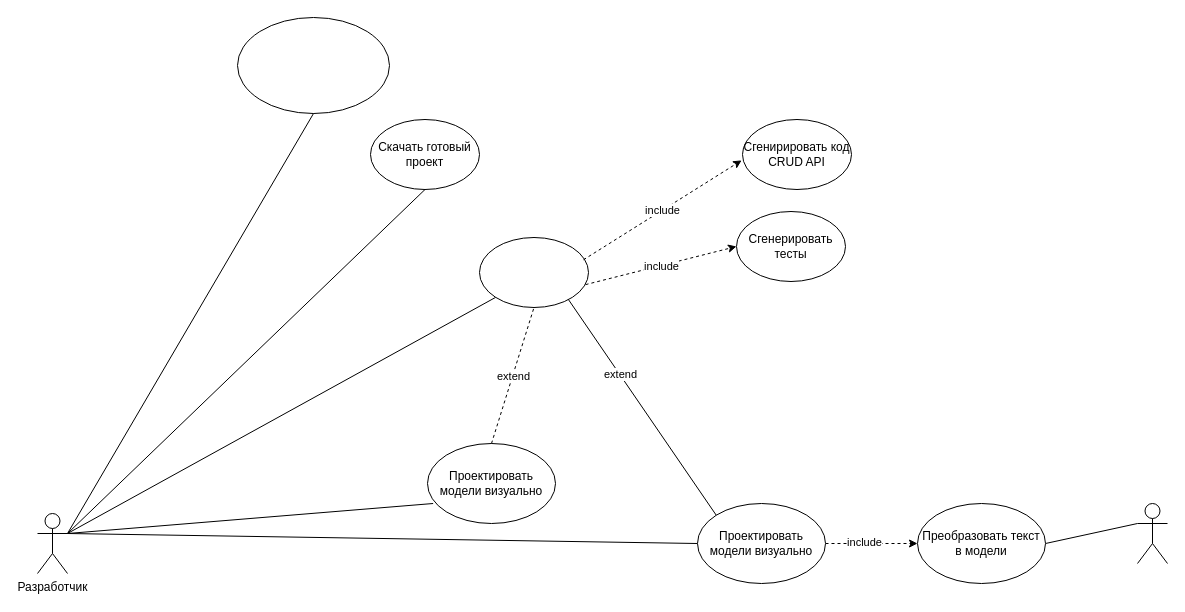
The diagram is 1185 pixels wide and 612 high, and some of its shapes have lost their labels. Here are the shapes that lost their labels. From the top down, the box of each, then its label:
(236, 16, 390, 114): Просматривать код в реальном времени
(478, 236, 588, 308): Сгенерировать проект API
(1136, 502, 1168, 564): LLM
